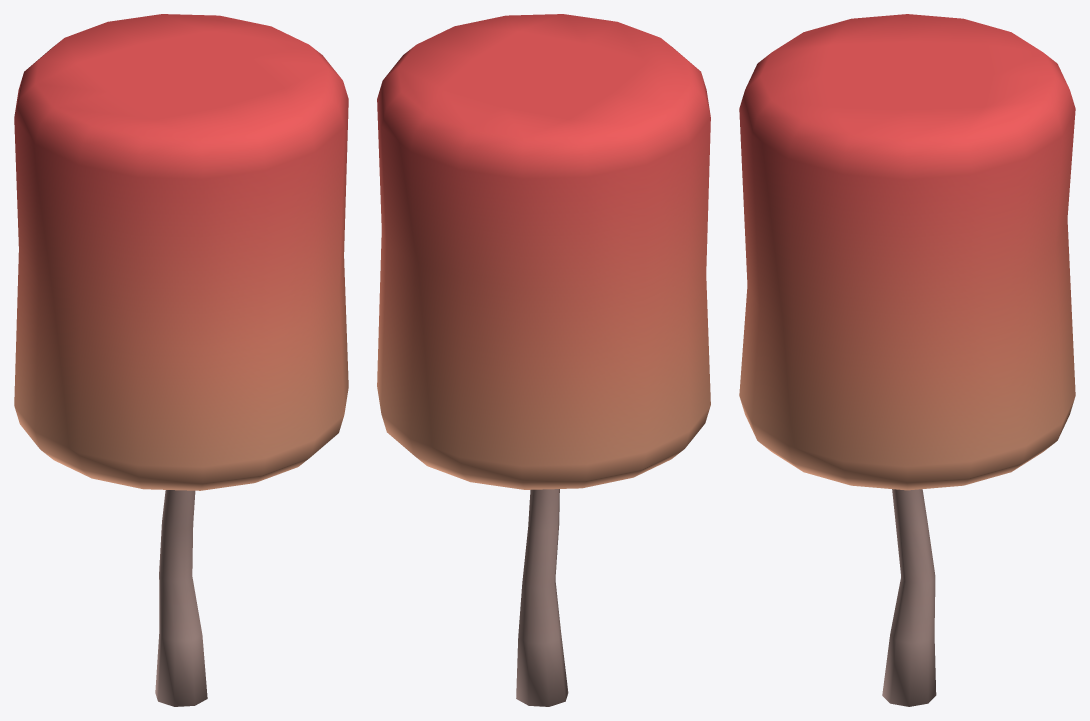
Rendered from Tree04_M_Red.fbx.
3 views of the same model, side by side, from view 1: azimuth 30°, elevation 25°; view 2: azimuth 150°, elevation 25°; view 3: azimuth 270°, elevation 25° (orthographic).
Parts seen in each view (by area): view 1: Tree04_M_Red; view 2: Tree04_M_Red; view 3: Tree04_M_Red.
Part boxes in pixels (x1,y1,x2,y2): Tree04_M_Red: [14, 14, 348, 706]; Tree04_M_Red: [377, 14, 710, 706]; Tree04_M_Red: [739, 14, 1075, 706].
Size of the model in its own units: 4.65 by 9.51 by 4.65.
